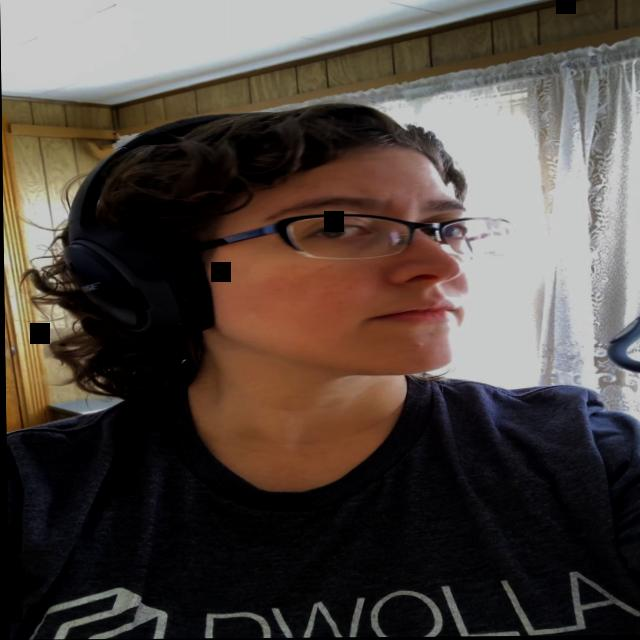NO-Mask: (179, 146, 474, 376)
